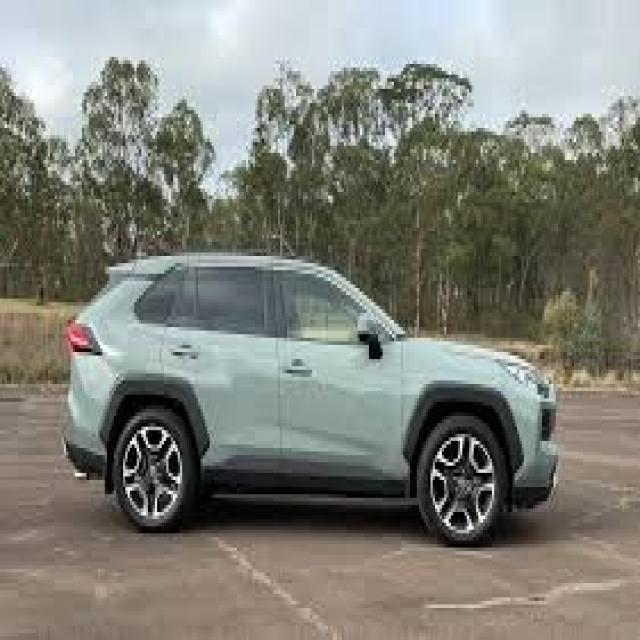light_vehicle: (62, 251, 560, 549)
